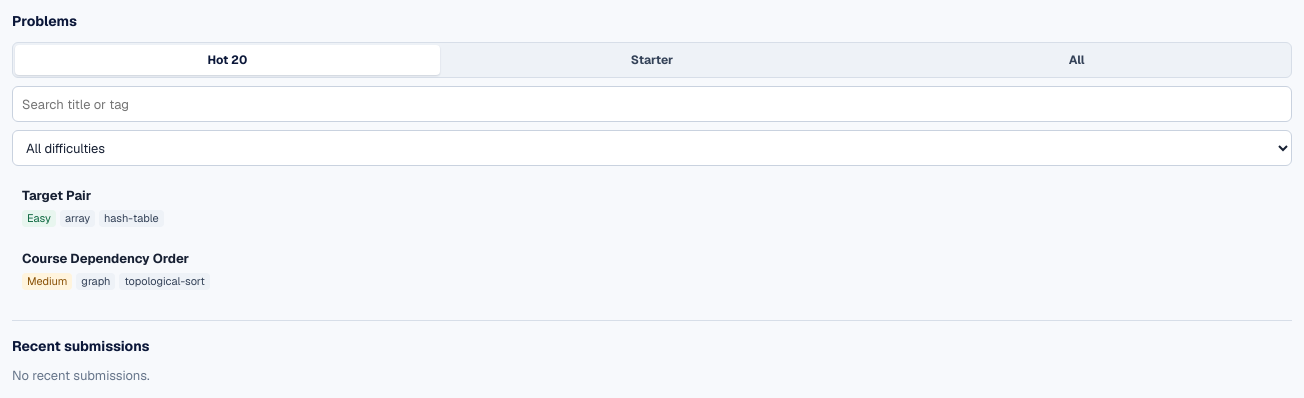
Scenario: ProblemRail › combines collection and difficulty filters
The image size is (1304, 398).
Select "Medium" in the dropdown named "Difficulty": (652, 148) [12, 130, 1292, 166]
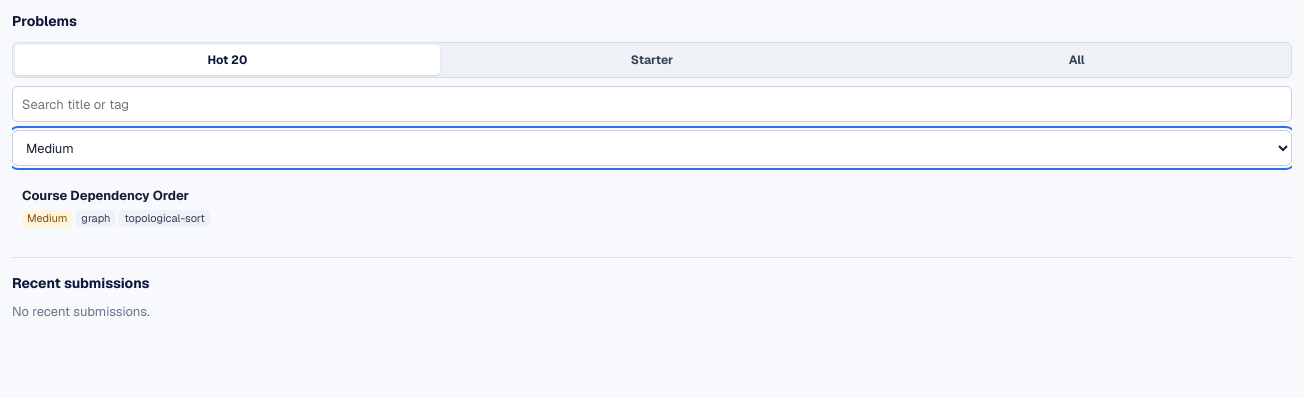
Check: the link "Course Dependency Order" is shown, box [22, 187, 210, 227]
Check: the link "Target Pair" is gone
